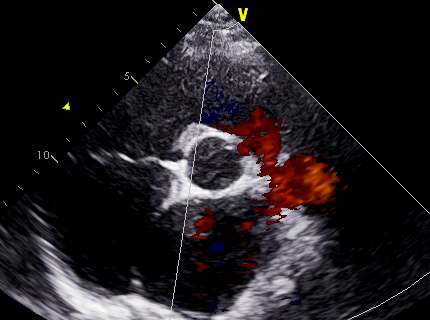PR: (234, 113, 320, 226)
